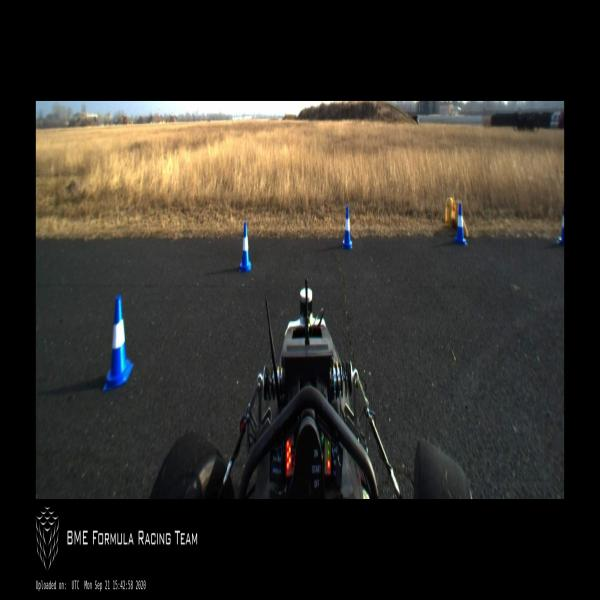blue_cone: (103, 295, 134, 391), (239, 222, 251, 272), (455, 204, 467, 245), (343, 206, 352, 249), (556, 203, 564, 244)
unknown_cone: (453, 200, 468, 238), (445, 197, 454, 228)
